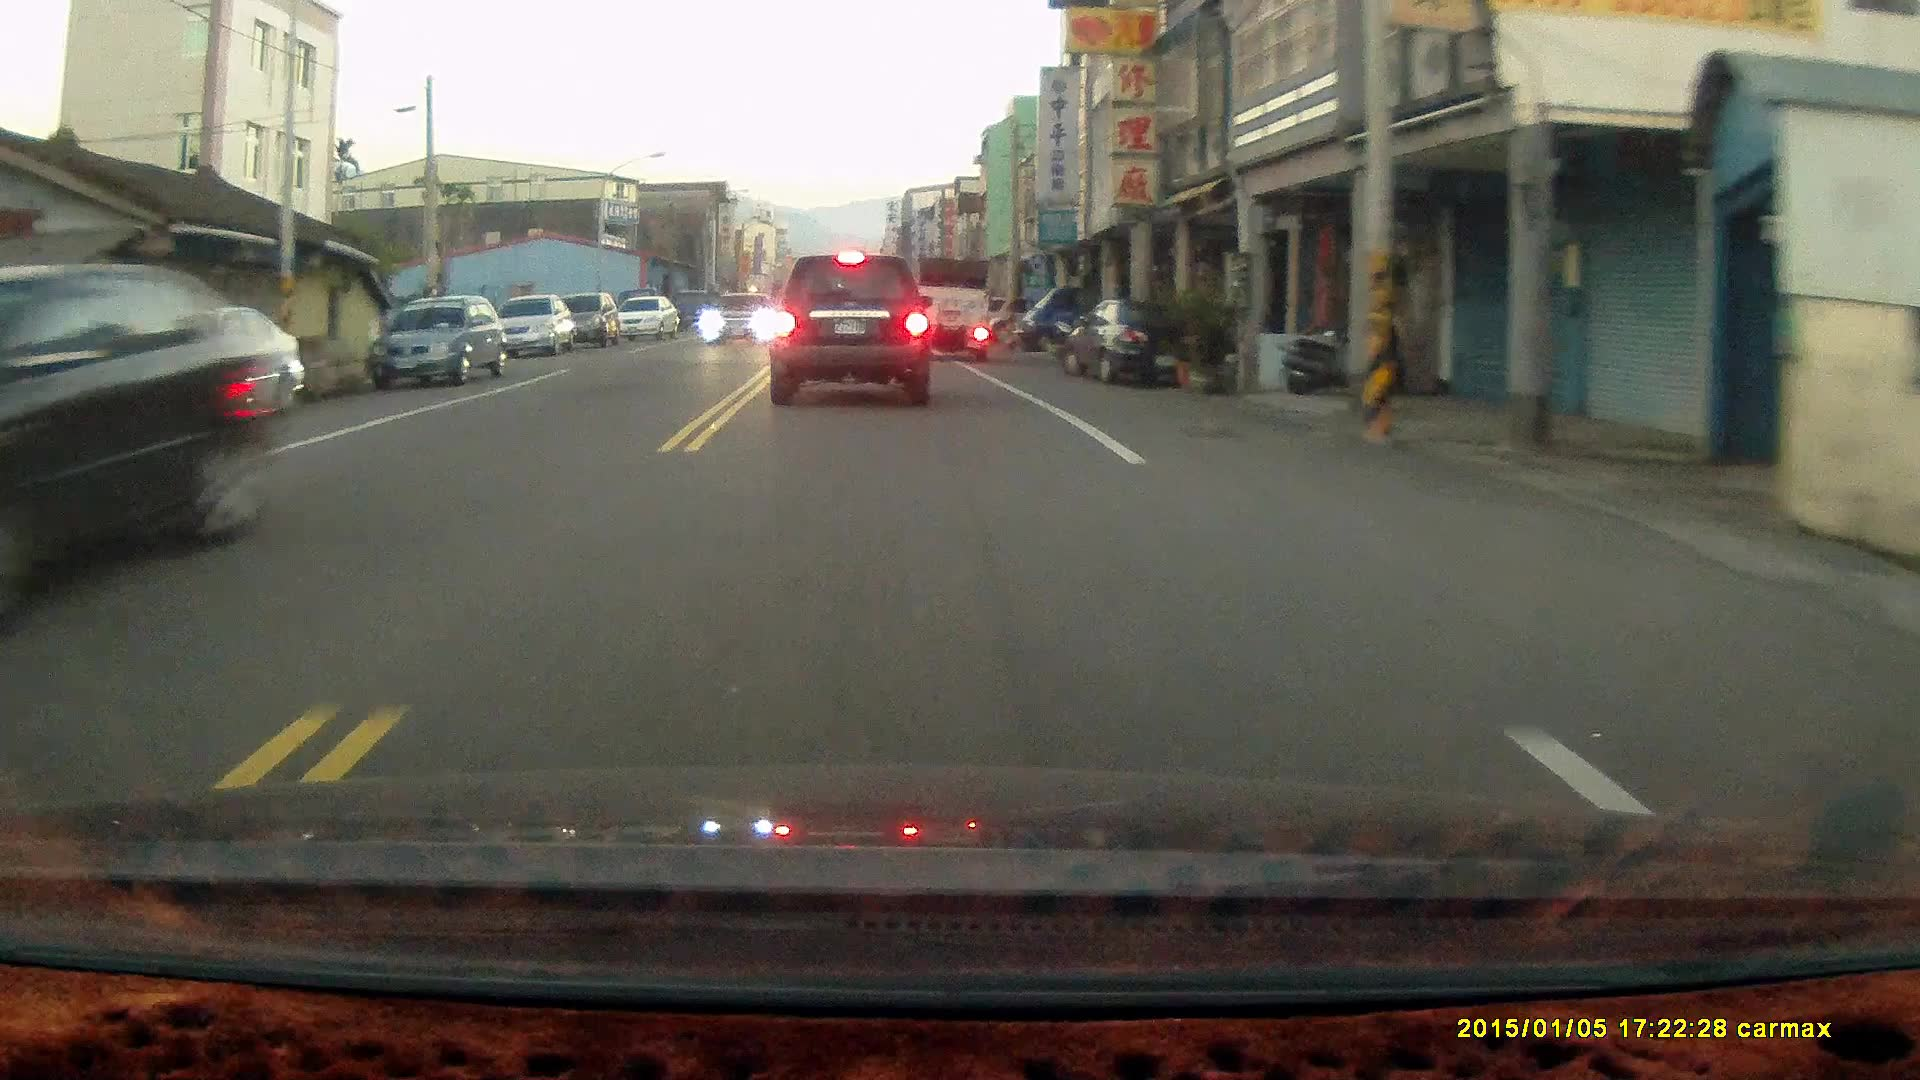vehicle: (1, 262, 272, 628), (769, 251, 934, 407), (127, 303, 305, 436), (1064, 297, 1215, 385), (372, 295, 508, 388), (905, 256, 997, 368), (1021, 280, 1141, 357), (496, 294, 572, 357), (702, 293, 778, 347), (549, 291, 622, 347), (613, 297, 684, 347)
